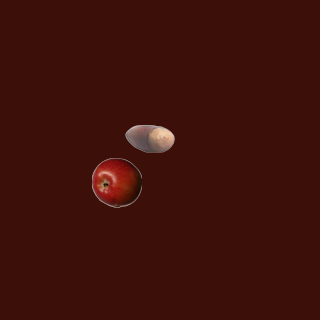Apple Braeburn: (91, 157, 141, 207)
Hazelnut: (124, 113, 174, 163)
